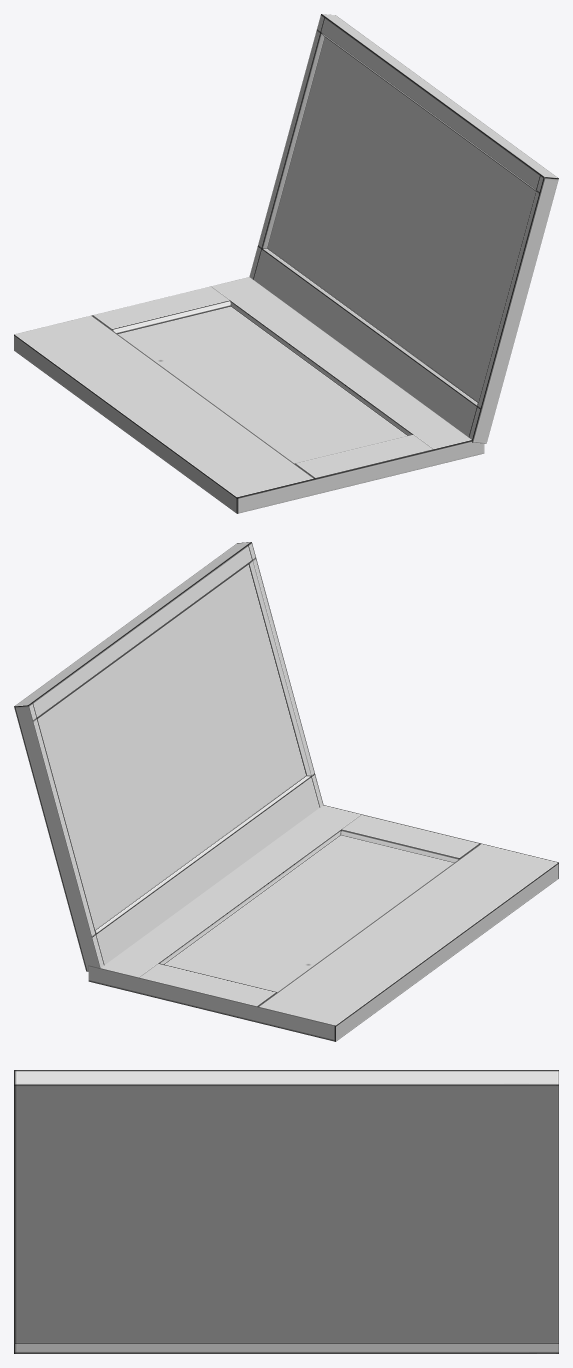
File: Laptop.fbx
The picture shows the model from 3 angles, top to bottom: view 1: azimuth 30°, elevation 25°; view 2: azimuth 150°, elevation 25°; view 3: azimuth 270°, elevation 25°; orthographic projection. The views are drawn at different scales.
Visible parts, largest first — view 1: LaptopScreen, LaptopBase; view 2: LaptopScreen, LaptopBase; view 3: LaptopScreen, LaptopBase.
Boxes of the visible parts, x1=… form: LaptopScreen: x1=249, y1=14, x2=558, y2=443; LaptopBase: x1=14, y1=277, x2=484, y2=513; LaptopScreen: x1=14, y1=542, x2=323, y2=971; LaptopBase: x1=88, y1=805, x2=558, y2=1041; LaptopScreen: x1=14, y1=1070, x2=558, y2=1343; LaptopBase: x1=14, y1=1344, x2=558, y2=1353.
Size of the model in its own units: 0.4165 by 0.3234 by 0.5.
Materials: 2 (2 with a texture image).
